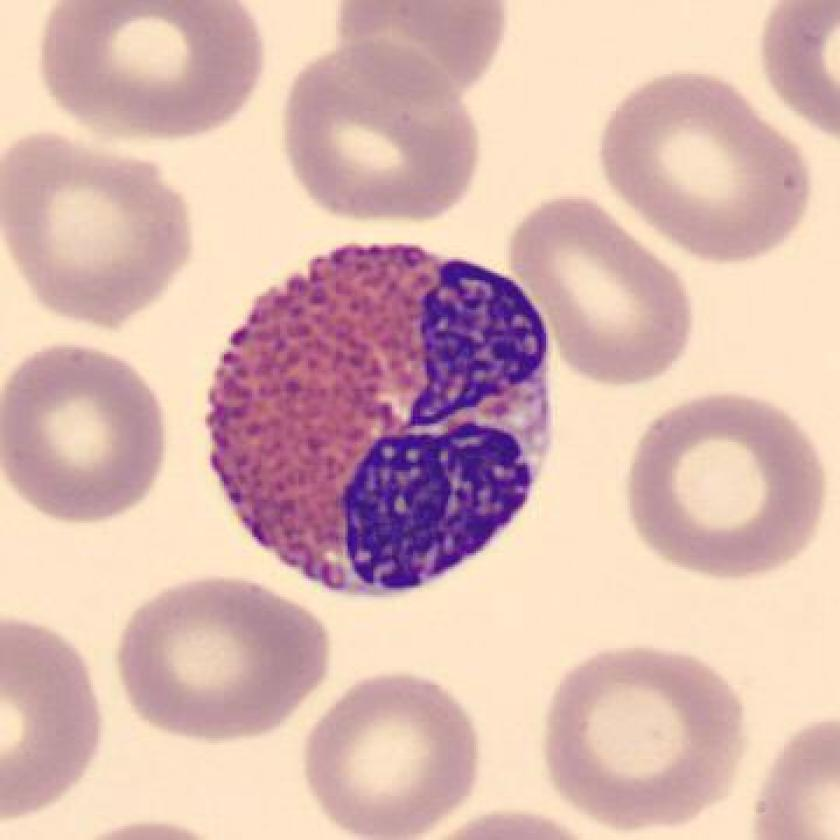eosinophil: (190, 230, 570, 607)
